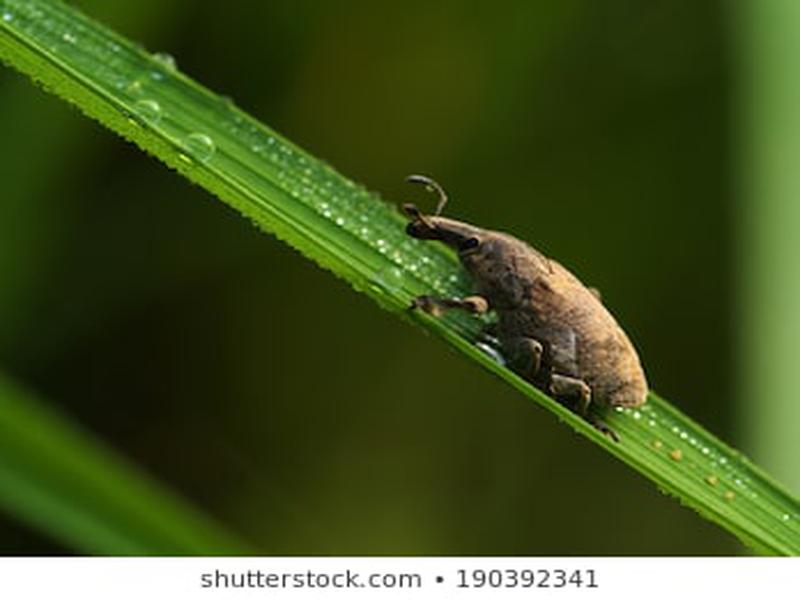Rice_earhead_bug: (367, 168, 671, 431)
